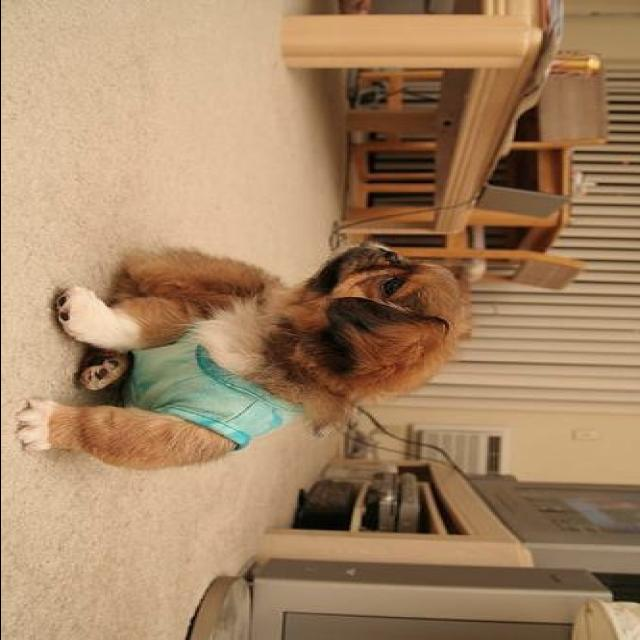pekinese: (15, 246, 467, 472)
